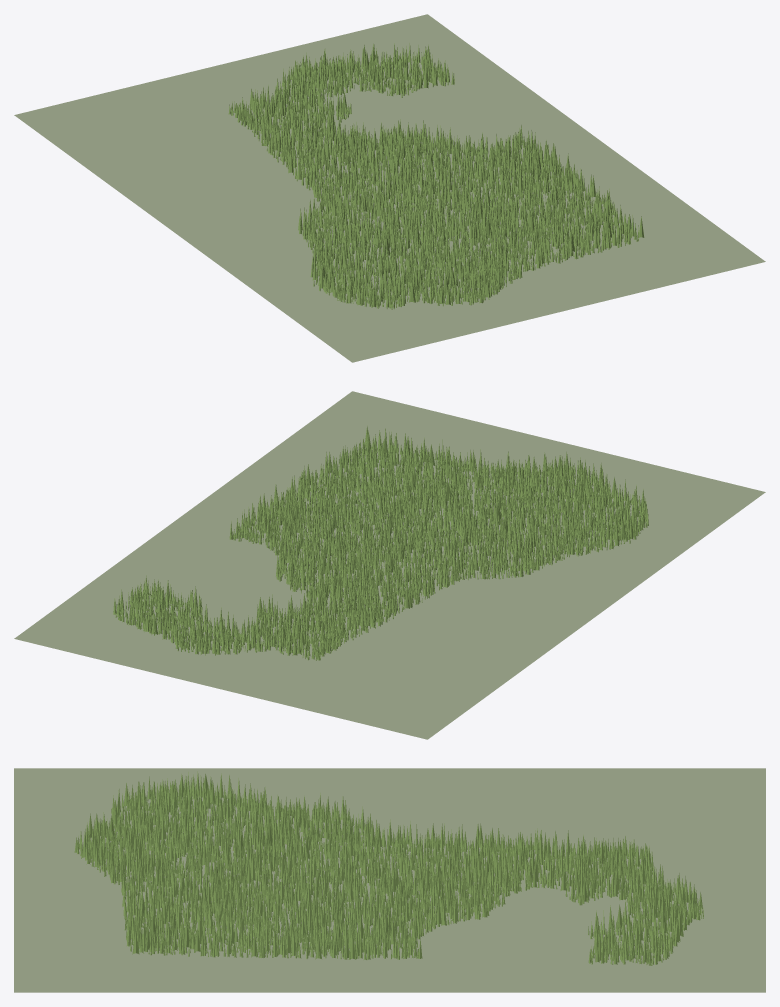
3 renders of one model, top to bottom at view 1: azimuth 30°, elevation 25°; view 2: azimuth 150°, elevation 25°; view 3: azimuth 270°, elevation 25°, orthographic. The views are drawn at different scales.
Visible parts, largest first — view 1: ground; view 2: ground; view 3: ground.
Part boxes in pixels (box(x1,y1,x2,y2)): ground: box(14, 14, 765, 362); ground: box(14, 391, 765, 739); ground: box(14, 768, 765, 992).
Bounding box in the file's own units: 819 × 44.1 × 1160.
